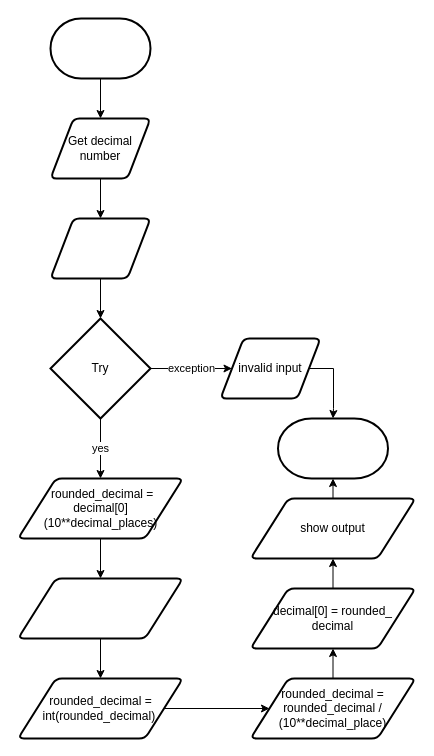
This 434x756 diagram has some shape labels left out. Each missing label, with the centre of its shape:
"get decimal place" belongs at point 100,248.
"rounded_decimal = rounded_decimal + 0.5" belongs at point 100,608.
"Start" belongs at point 100,48.
"Stop" belongs at point 332,448.
